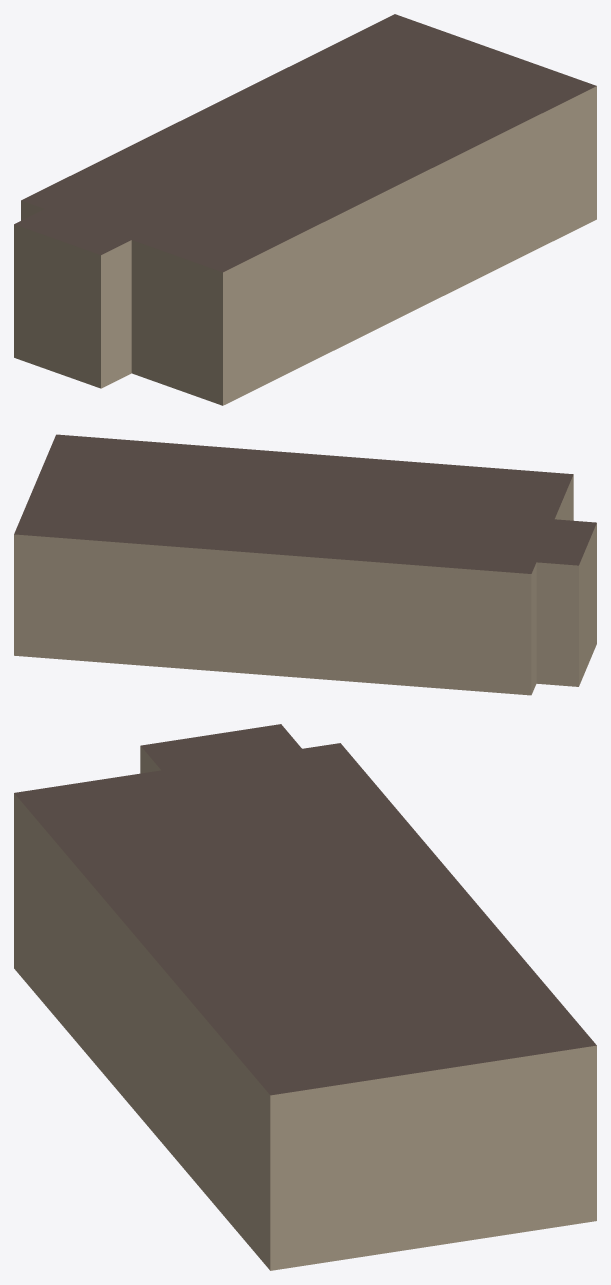
The picture shows the model from 3 angles, top to bottom: view 1: azimuth 30°, elevation 25°; view 2: azimuth 150°, elevation 25°; view 3: azimuth 270°, elevation 25°; orthographic projection. The views are drawn at different scales.
Parts seen in each view (by area): view 1: HP-w1460171665; view 2: HP-w1460171665; view 3: HP-w1460171665.
Part boxes in pixels (box(x1,y1,x2,y2)): HP-w1460171665: box(14, 14, 596, 405); HP-w1460171665: box(14, 434, 596, 695); HP-w1460171665: box(14, 724, 596, 1270).
Size of the model in its own units: 40.85 by 9 by 27.1.
